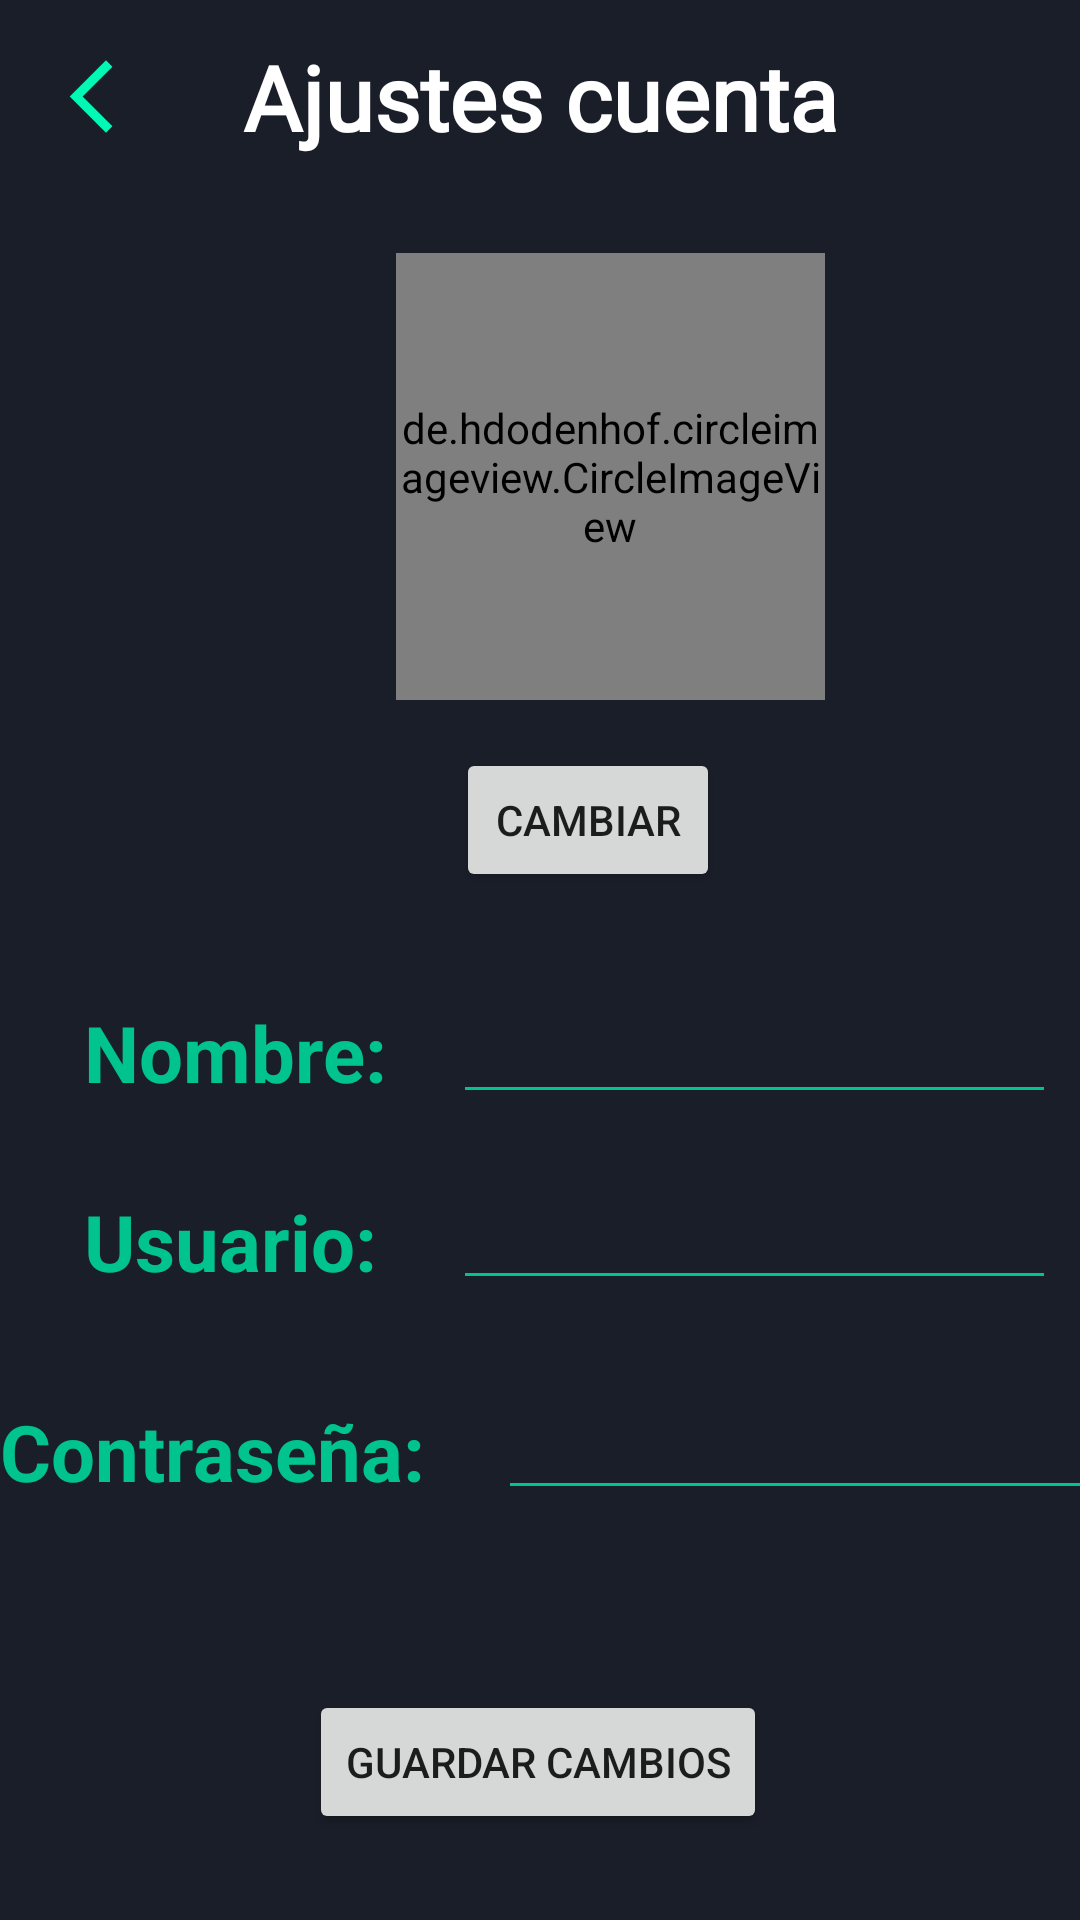

Locate icon controls on the screen. Image size 1080*1920, boxes as (x1, y1, x2, y2).
arrow back: (70, 60, 113, 133)
